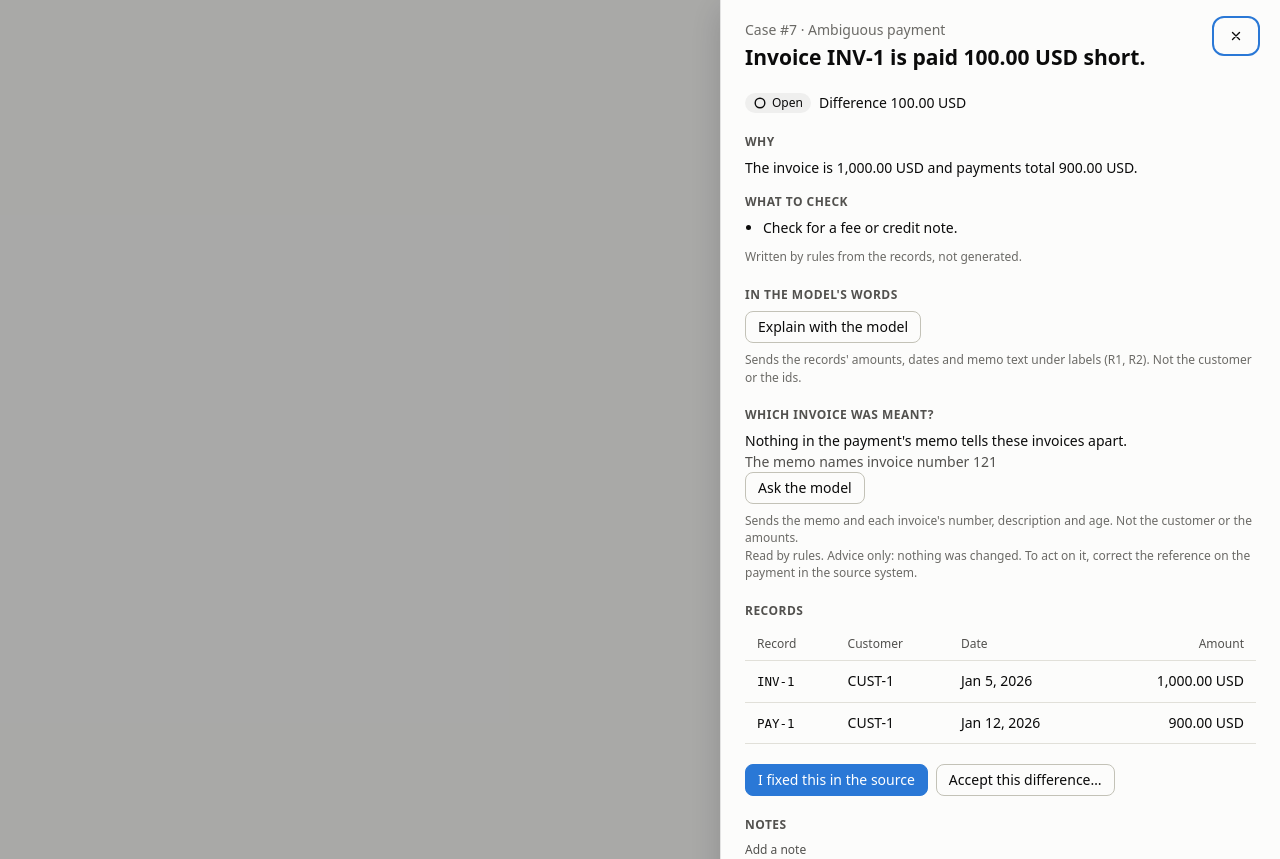
Test case: SuggestionSection › asks once and shows the answer that comes back
Click the button "Ask the model": (805, 488) [745,472,865,504]
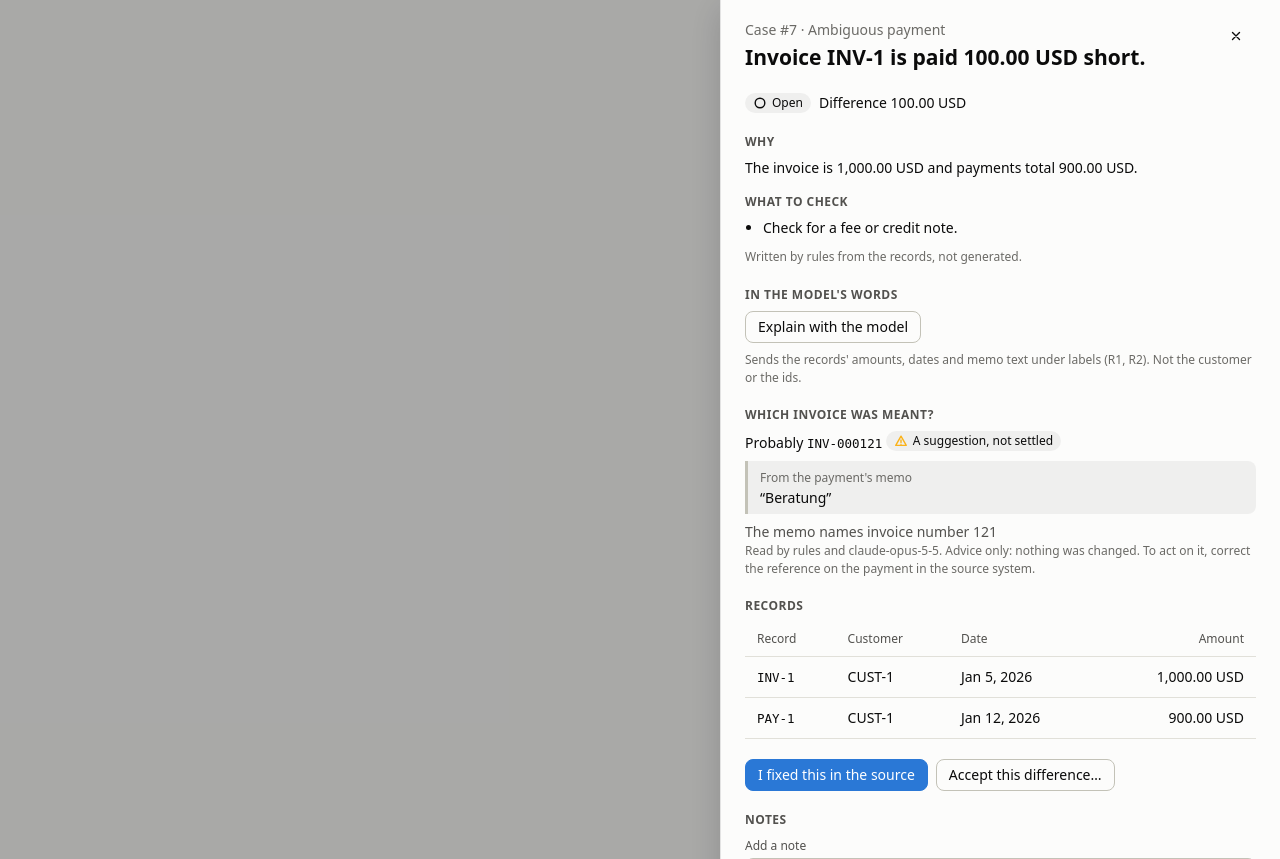
Expected: the text "From the payment's memo“Beratung”" is shown, [745,461,1256,514]
Expected: the button "Ask the model" is gone
